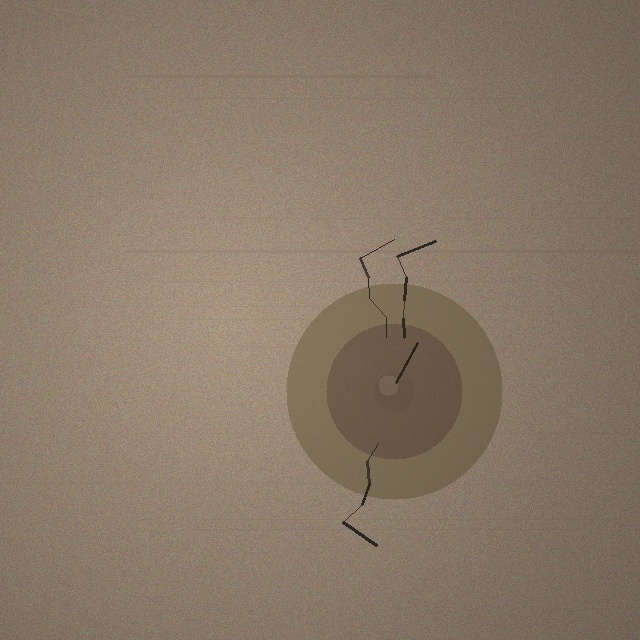crack: (286, 283, 502, 499)
